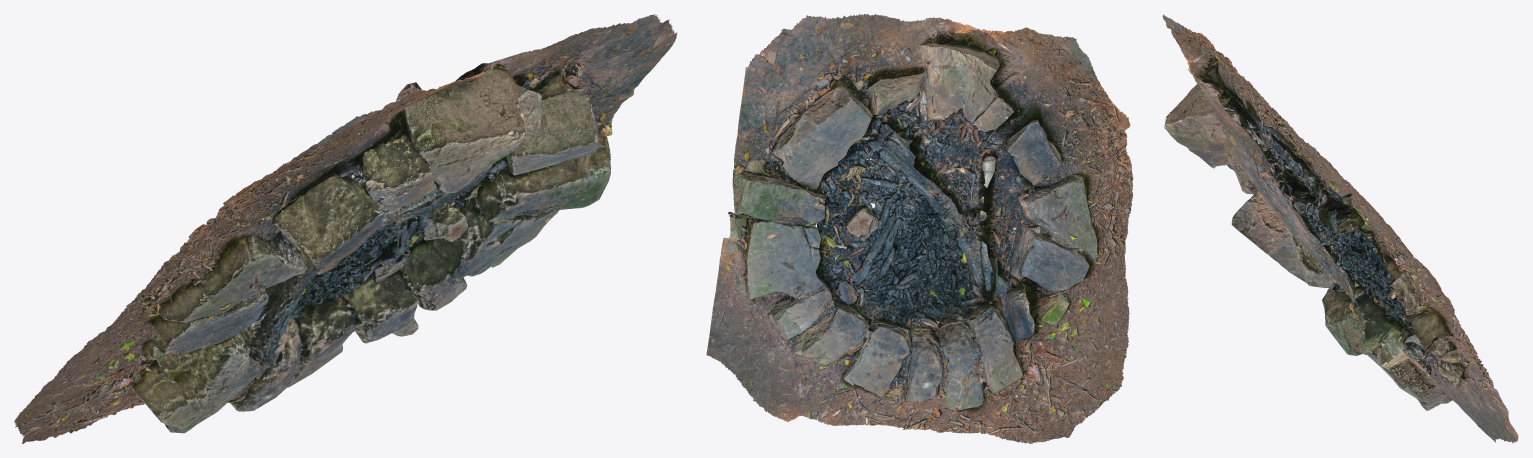
The model's file is fireplace.glb.
3 views of the same model, side by side, from view 1: azimuth 30°, elevation 25°; view 2: azimuth 150°, elevation 25°; view 3: azimuth 270°, elevation 25° (orthographic). The views are drawn at different scales.
Parts seen in each view (by area): view 1: Merged; view 2: Merged; view 3: Merged.
Part boxes in pixels (x1,y1,x2,y2): Merged: (14, 14, 677, 443); Merged: (706, 14, 1133, 443); Merged: (1162, 14, 1518, 443).
Size of the model in its own units: 18.18 by 12.8 by 11.79.
Materials: 3 (3 with a texture image).
